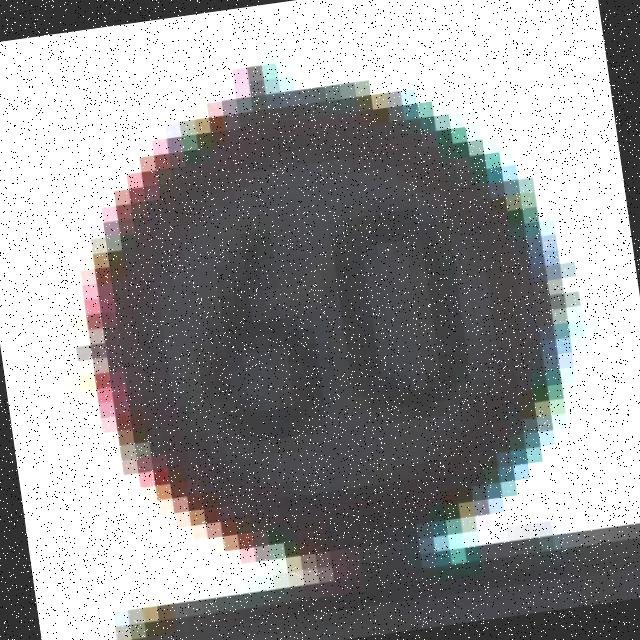Ograniczenie predkosci do 60: (65, 58, 586, 574)
